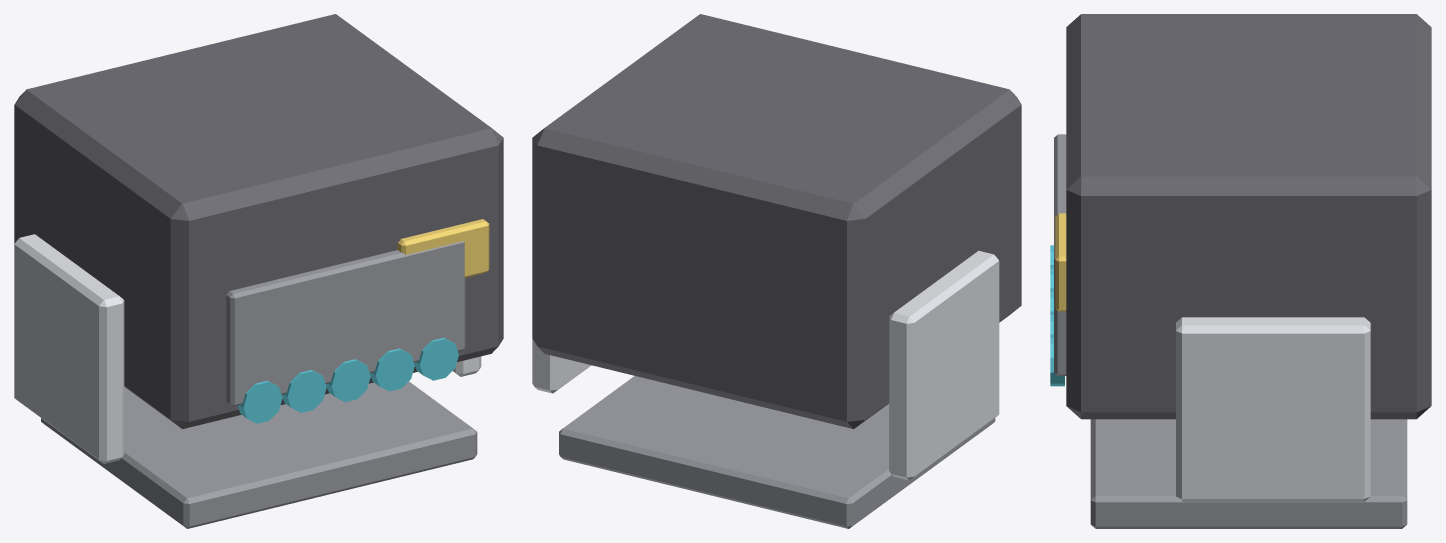
Rendered from dj-laser.glb.
3 renders of one model, left to right at view 1: azimuth 30°, elevation 25°; view 2: azimuth 150°, elevation 25°; view 3: azimuth 270°, elevation 25°, orthographic. The views are drawn at different scales.
Parts seen in each view (by area): view 1: laser-unit; view 2: laser-unit; view 3: laser-unit.
Boxes of the visible parts, x1=… form: laser-unit: x1=14, y1=14, x2=503, y2=528; laser-unit: x1=532, y1=14, x2=1021, y2=528; laser-unit: x1=1050, y1=14, x2=1431, y2=528.
Size of the model in its own units: 0.39 by 0.325 by 0.313.
